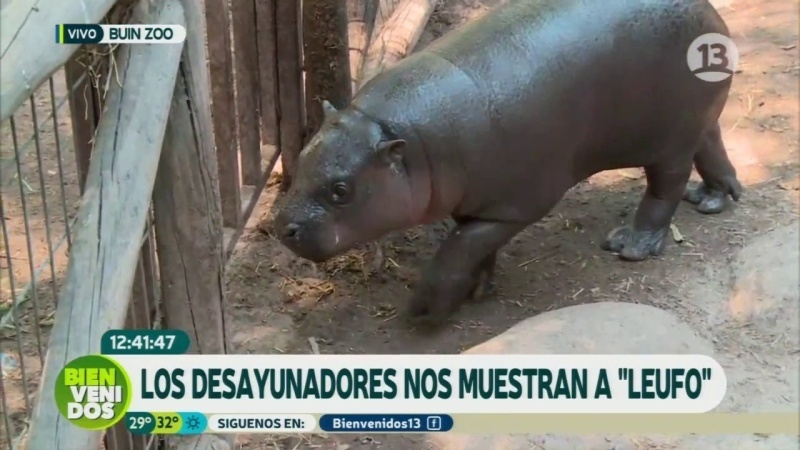hipopotamo: (251, 2, 756, 339)
